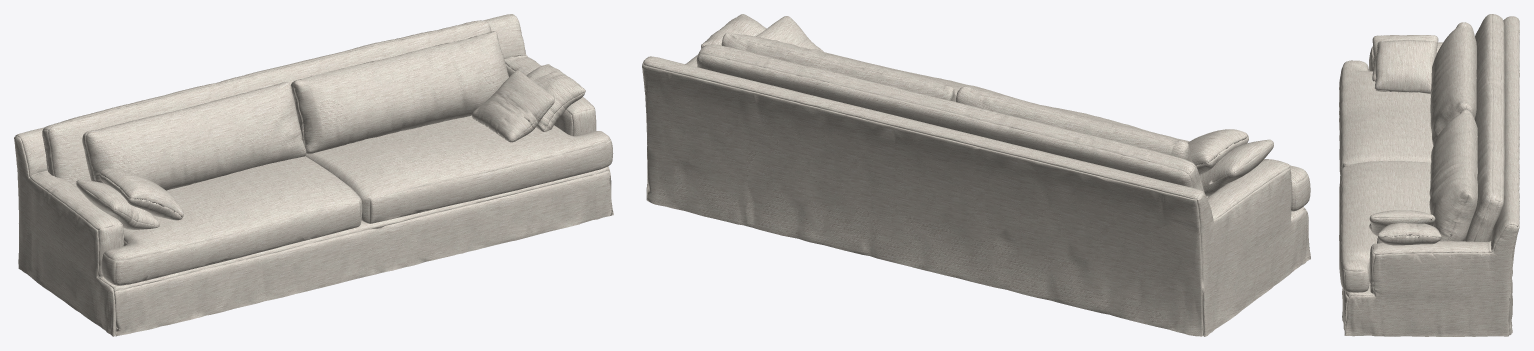
The model's file is sofa_1.glb.
3 views of the same model, side by side, from view 1: azimuth 30°, elevation 25°; view 2: azimuth 150°, elevation 25°; view 3: azimuth 270°, elevation 25° (orthographic). The views are drawn at different scales.
Visible parts, largest first — view 1: Object_4; view 2: Object_4; view 3: Object_4.
Boxes of the visible parts, box(x1,y1,x2,y2) form: Object_4: box(14, 14, 613, 336); Object_4: box(642, 14, 1310, 336); Object_4: box(1339, 14, 1519, 336).
Bounding box in the file's own units: 3.23 × 0.9163 × 1.17.
2 materials, 1 textured.
